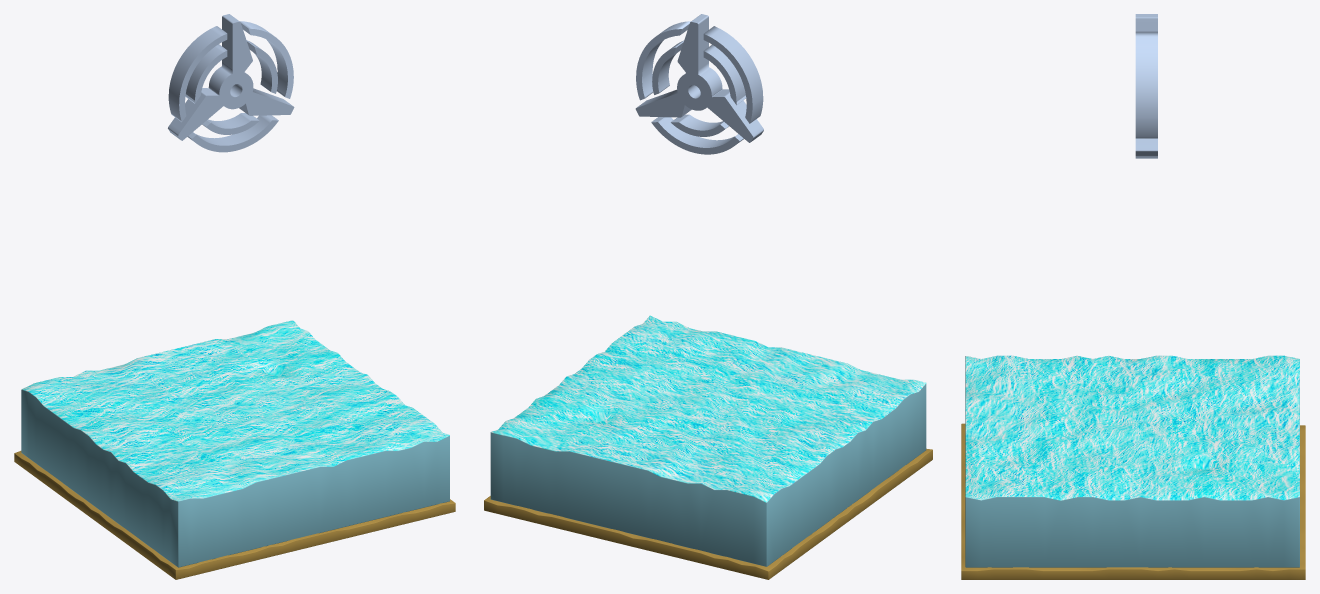
The model's file is water-lower-wind.glb.
3 renders of one model, left to right at view 1: azimuth 30°, elevation 25°; view 2: azimuth 150°, elevation 25°; view 3: azimuth 270°, elevation 25°, orthographic. The views are drawn at different scales.
Parts seen in each view (by area): view 1: Sea, Curve.060, Sand; view 2: Sea, Curve.060, Sand; view 3: Sea, Sand, Curve.060.
Part boxes in pixels (box(x1,y1,x2,y2)): Sea: box(21, 320, 449, 567); Curve.060: box(168, 14, 294, 152); Sand: box(14, 451, 455, 579); Sea: box(490, 315, 926, 566); Curve.060: box(635, 14, 763, 154); Sand: box(484, 448, 932, 579); Sea: box(965, 355, 1299, 567); Sand: box(961, 423, 1305, 579); Curve.060: box(1135, 14, 1157, 158).
Bounding box in the file's own units: 107 × 169 × 107.
10 materials, 1 textured.
